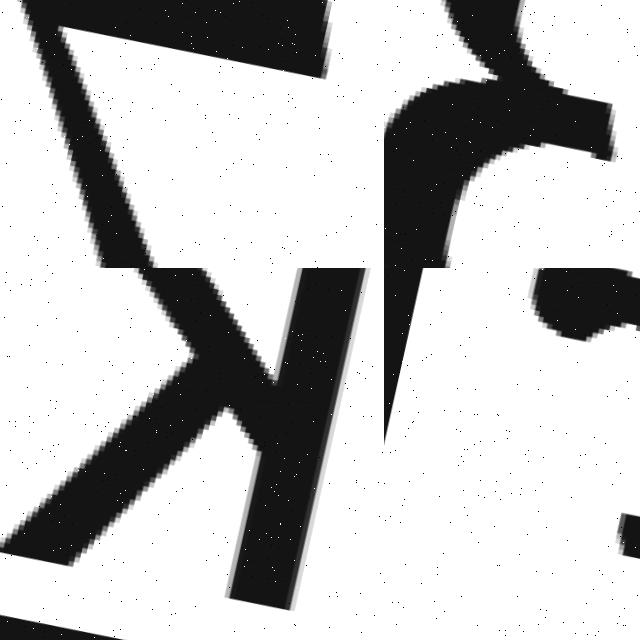3: (384, 0, 640, 268)
7: (0, 0, 357, 268)
F: (415, 268, 640, 640)
K: (0, 268, 384, 627)
